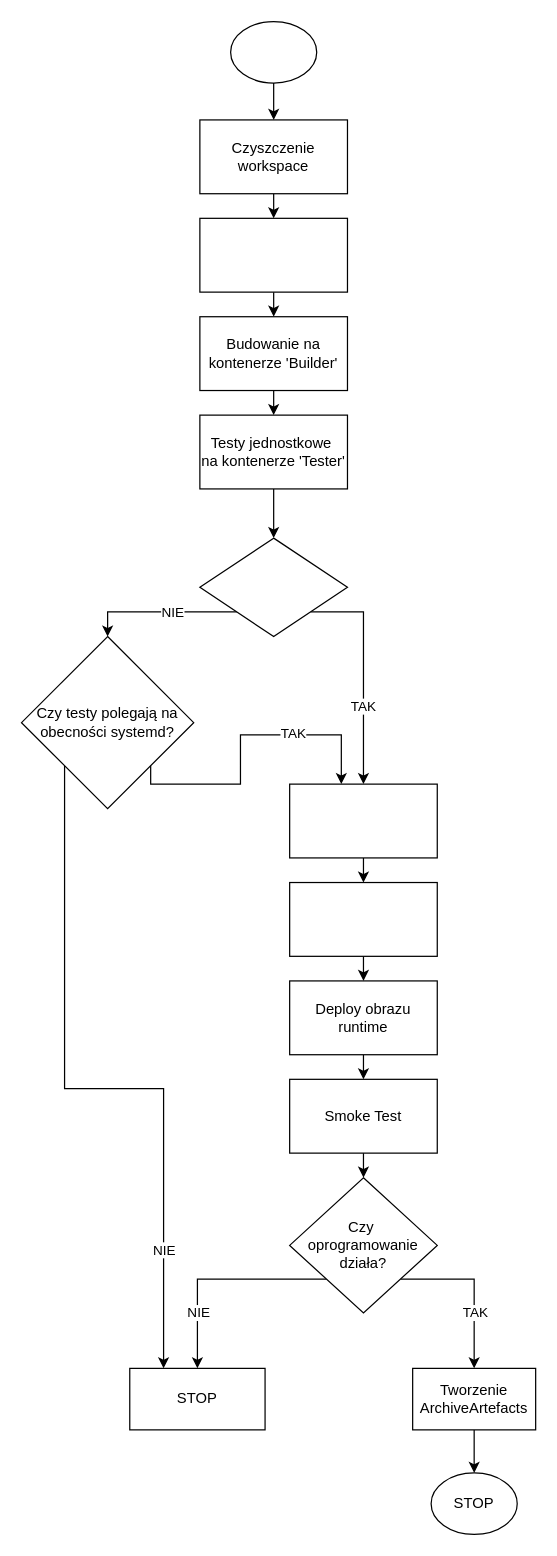
Some shapes in this 557 by 1556 pixel diagram are drawn without their labels. The shapes that lost their labels are listed below. From the top down, each one's box as (x1, y1, x2, y2) in pixels, then its label:
(229, 20, 317, 83): START
(199, 217, 347, 292): Klonowanie repozytorium (github)
(199, 537, 347, 637): Czy testy przechodzą?
(288, 783, 437, 858): Tworzenie paczki .deb
(288, 881, 437, 956): Tworzenie obrazu runtime
